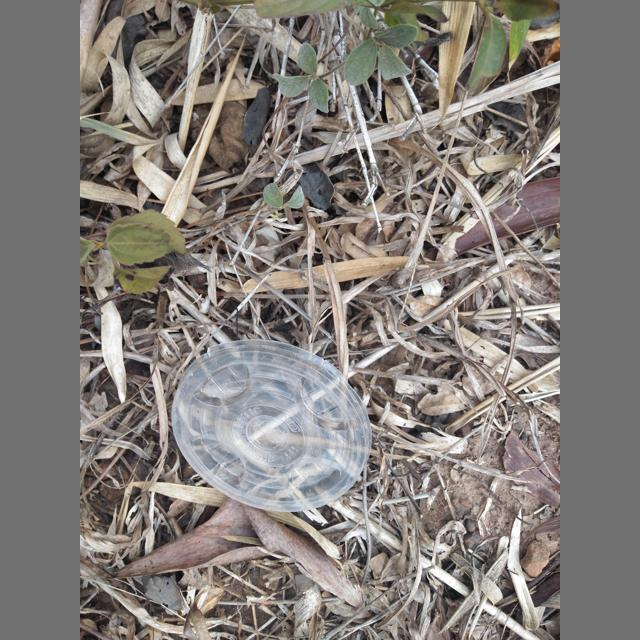litter: (172, 339, 372, 512)
